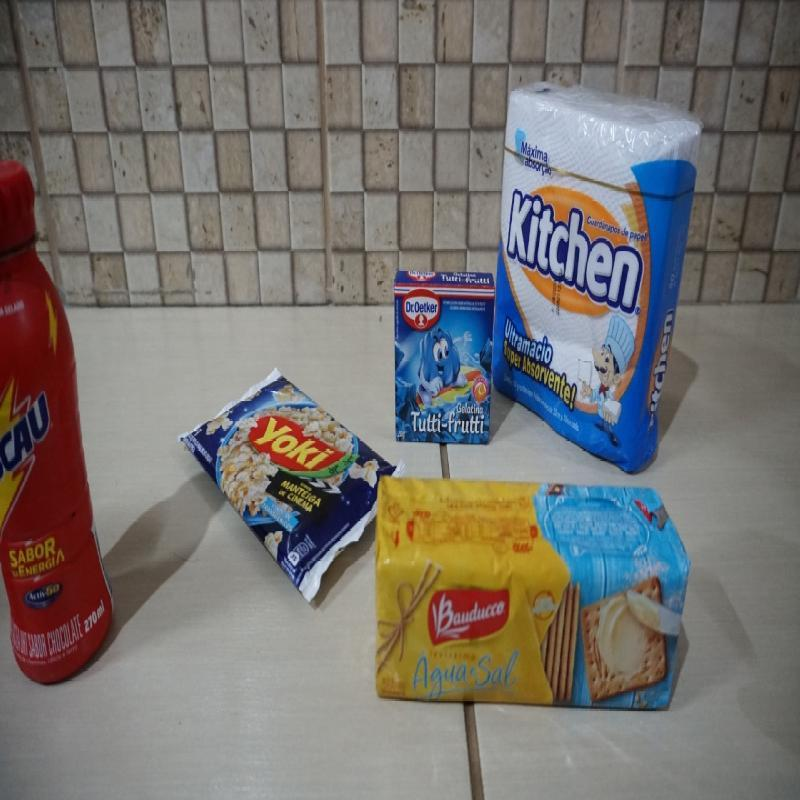Chocolate Milk: (1, 141, 117, 686), (0, 149, 115, 689)
Cracker: (373, 472, 693, 714), (379, 478, 692, 714)
Gelatine: (393, 268, 498, 447), (394, 274, 494, 454)
Napkin: (488, 79, 705, 477), (502, 92, 698, 471)
Popcorn: (176, 363, 406, 608), (179, 374, 378, 623)
